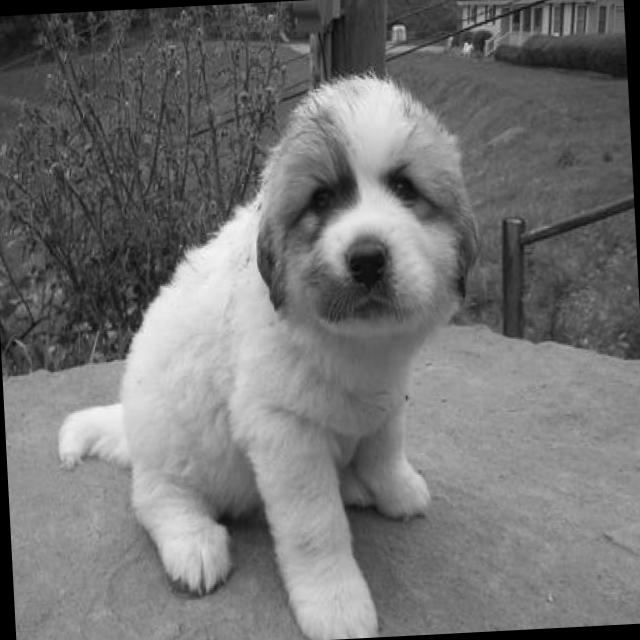sitting: (33, 54, 515, 640)
